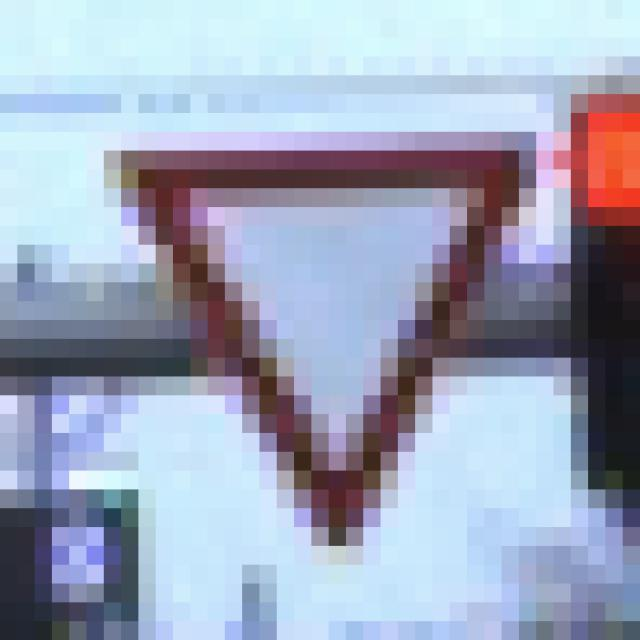Give Way: (105, 114, 554, 547)
